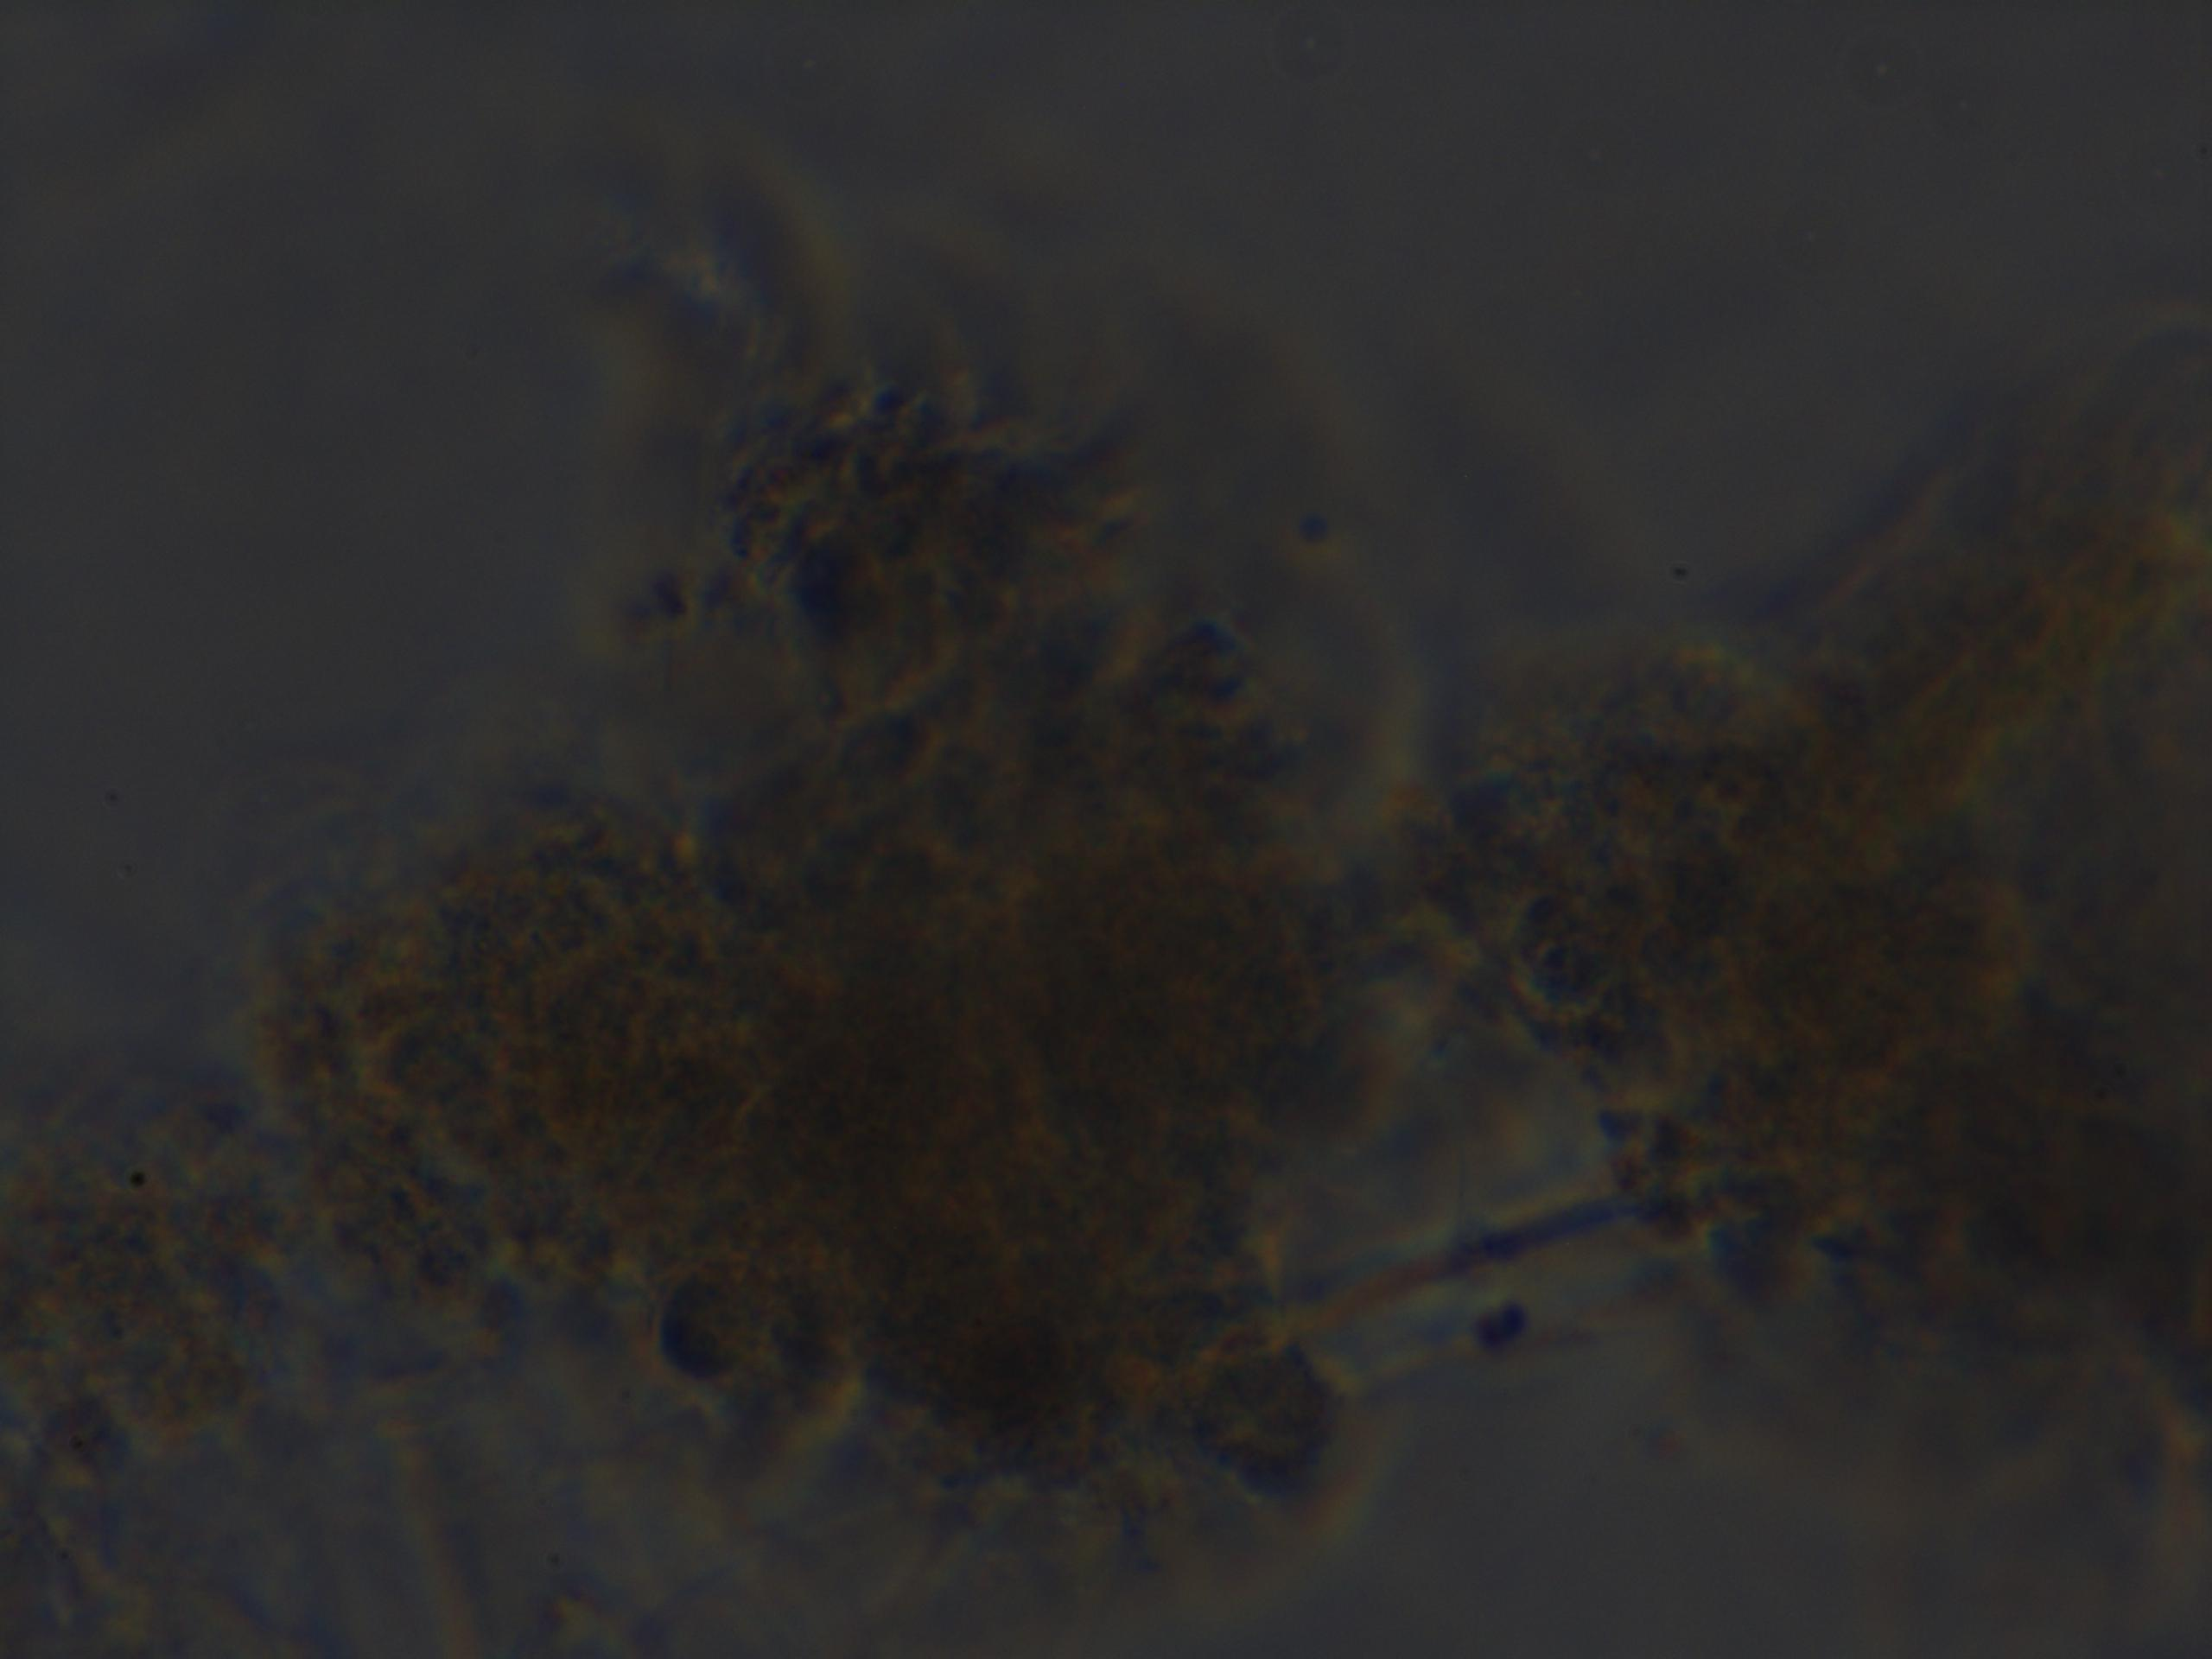filament: (1155, 1143, 1726, 1412)
